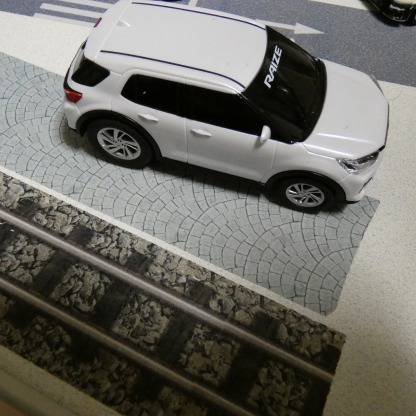car: (60, 0, 389, 216)
